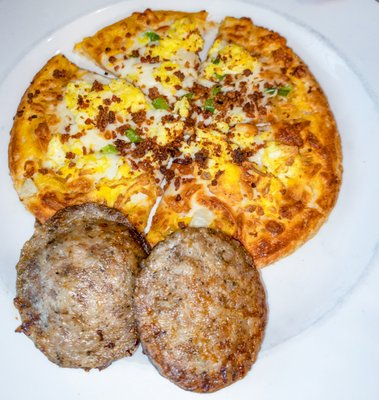sandwich: (2, 4, 337, 388), (2, 4, 341, 272)
